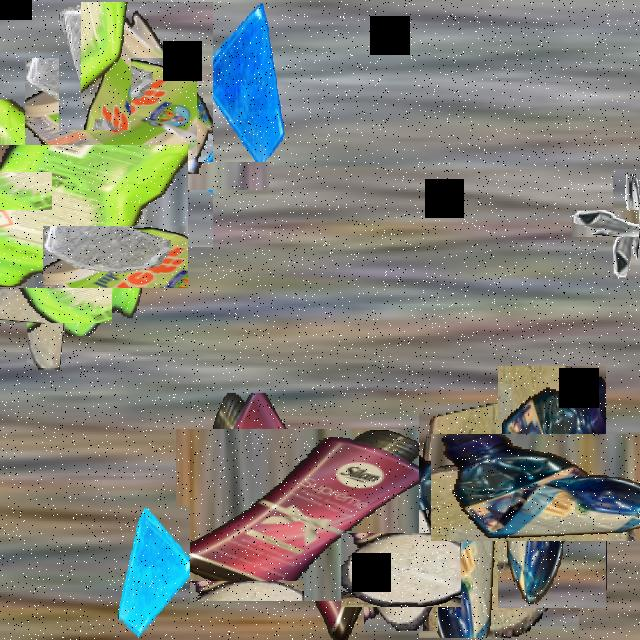glass: (197, 2, 287, 162), (116, 507, 190, 638), (59, 2, 131, 130)
metal: (592, 189, 640, 258)
plastic: (194, 411, 402, 620), (53, 30, 241, 219), (0, 122, 165, 311), (464, 400, 640, 574)
wood: (419, 404, 579, 638), (352, 522, 450, 619), (3, 262, 88, 346)
